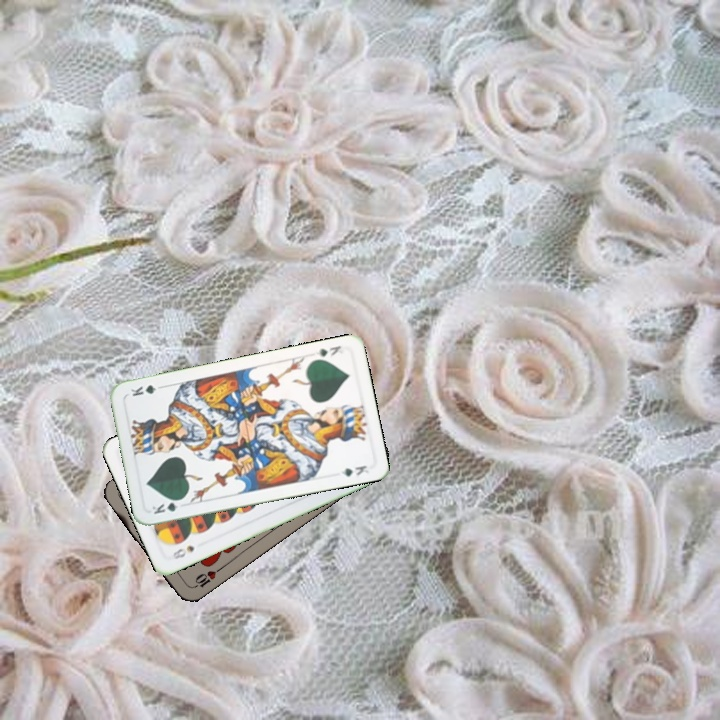GK: (148, 495, 186, 517), (312, 341, 344, 360)
H10: (187, 564, 224, 591)
S8: (169, 541, 197, 562)
